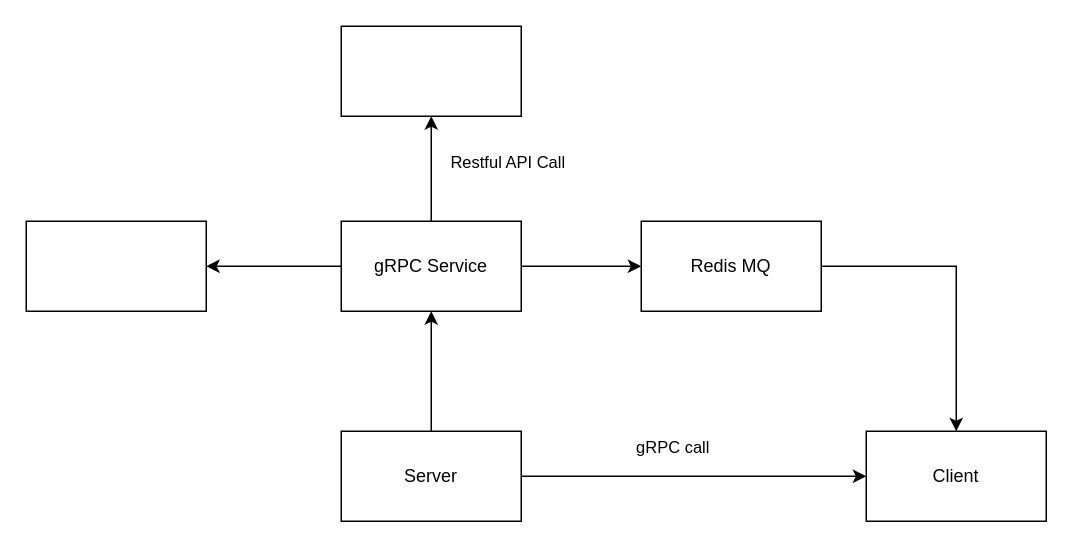
The diagram is 1073 pixels wide and 548 high, and some of its shapes have lost their labels. Here are the shapes that lost their labels. From the top down, the centre of each, then its label:
At (430,70): "SuperHero Server".
At (115,265): "InMem Cache".
